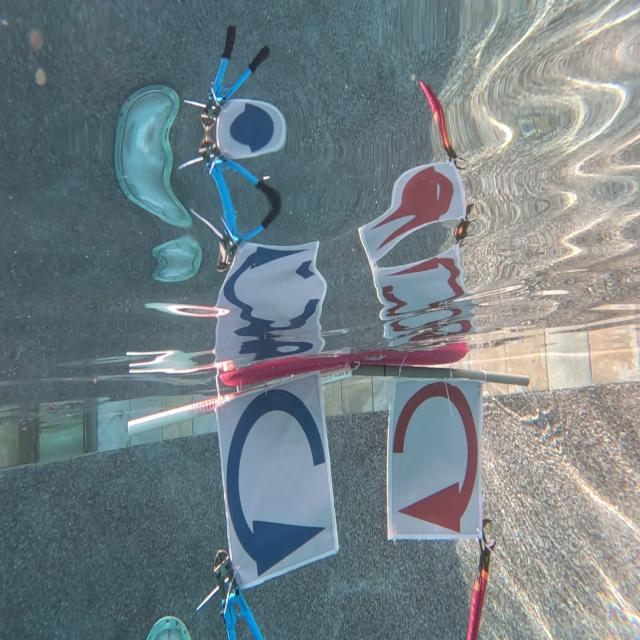blue_side: (219, 387, 336, 574)
red_side: (385, 386, 482, 544)
